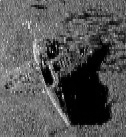ship: (31, 27, 76, 124)
